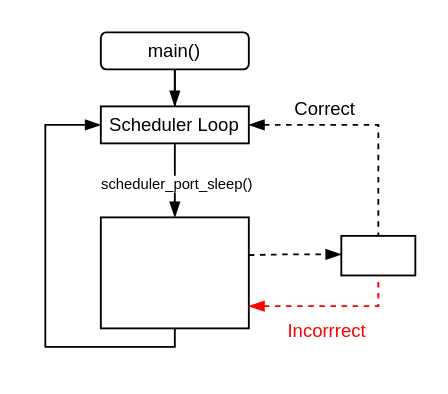
Image size: 448x394. Some labels were removed from this diagram. The centre of each missing label's shape, as x and y in pixels:
ISR: the point at 377,254
Sleep for Duration: the point at 174,272
